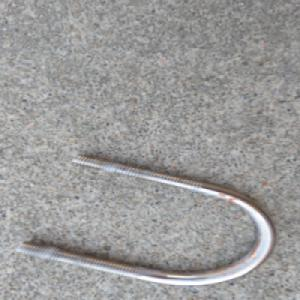ClampPart: (12, 152, 279, 287)
